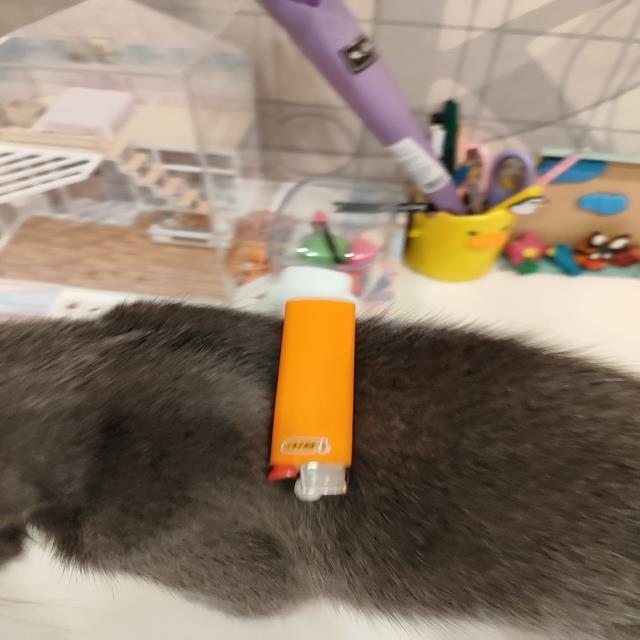lighter: (269, 296, 356, 501)
